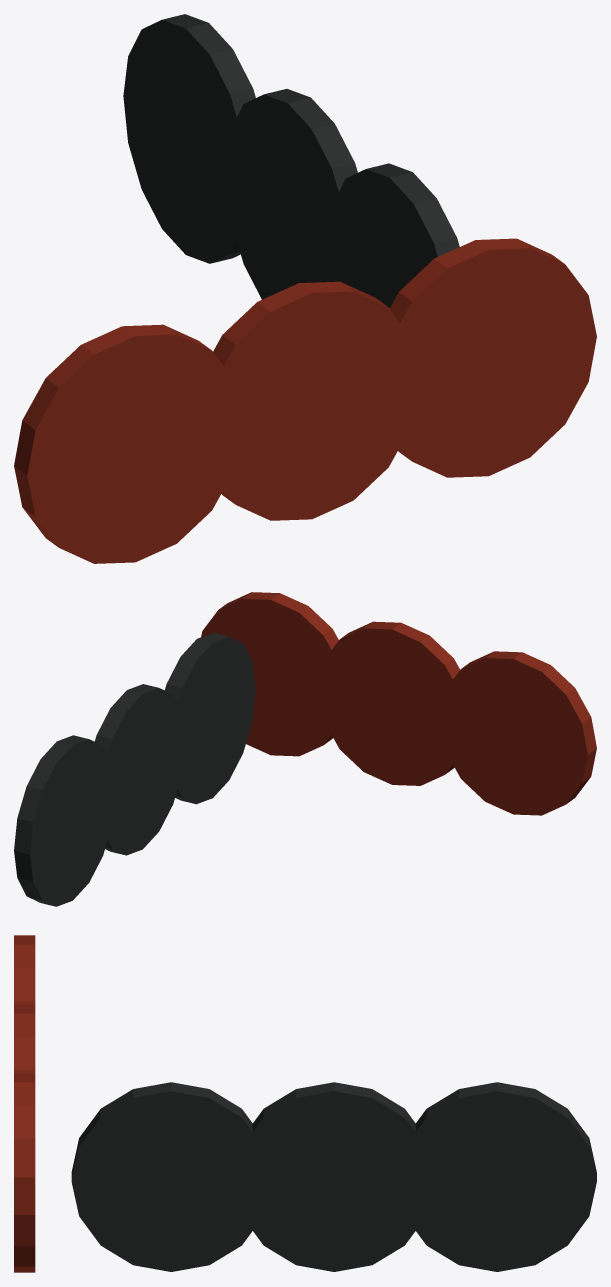
Rendered from shield_barricade_corner_LOD1.glb.
3 views of the same model, one above another, from view 1: azimuth 30°, elevation 25°; view 2: azimuth 150°, elevation 25°; view 3: azimuth 270°, elevation 25° (orthographic). The views are drawn at different scales.
Visible parts, largest first — view 1: LOD1_CornerX_ConvexDisk, LOD1_CornerX_ConvexDisk.001, LOD1_CornerX_ConvexDisk.002, LOD1_CornerY_ConvexDisk.002, LOD1_CornerY_ConvexDisk.001, LOD1_CornerY_ConvexDisk; view 2: LOD1_CornerX_ConvexDisk, LOD1_CornerX_ConvexDisk.001, LOD1_CornerX_ConvexDisk.002, LOD1_CornerY_ConvexDisk.002, LOD1_CornerY_ConvexDisk.001, LOD1_CornerY_ConvexDisk; view 3: LOD1_CornerY_ConvexDisk, LOD1_CornerY_ConvexDisk.002, LOD1_CornerY_ConvexDisk.001, LOD1_CornerX_ConvexDisk.002, LOD1_CornerX_ConvexDisk, LOD1_CornerX_ConvexDisk.001.
Part boxes in pixels (<box>): LOD1_CornerX_ConvexDisk: <box>14,324,243,563</box>; LOD1_CornerX_ConvexDisk.001: <box>204,281,420,520</box>; LOD1_CornerX_ConvexDisk.002: <box>382,238,596,477</box>; LOD1_CornerY_ConvexDisk.002: <box>123,14,255,263</box>; LOD1_CornerY_ConvexDisk.001: <box>225,89,357,299</box>; LOD1_CornerY_ConvexDisk: <box>330,163,459,308</box>; LOD1_CornerX_ConvexDisk: <box>439,651,596,815</box>; LOD1_CornerX_ConvexDisk.001: <box>318,621,464,785</box>; LOD1_CornerX_ConvexDisk.002: <box>201,592,344,756</box>; LOD1_CornerY_ConvexDisk.002: <box>14,735,113,906</box>; LOD1_CornerY_ConvexDisk.001: <box>94,684,185,855</box>; LOD1_CornerY_ConvexDisk: <box>164,633,255,804</box>; LOD1_CornerY_ConvexDisk: <box>71,1082,270,1271</box>; LOD1_CornerY_ConvexDisk.002: <box>398,1082,596,1271</box>; LOD1_CornerY_ConvexDisk.001: <box>234,1082,433,1271</box>; LOD1_CornerX_ConvexDisk.002: <box>14,1073,35,1272</box>; LOD1_CornerX_ConvexDisk: <box>14,935,35,1004</box>; LOD1_CornerX_ConvexDisk.001: <box>14,1004,35,1072</box>.
Bounding box in the file's own units: 2.58 × 0.98 × 2.86.
